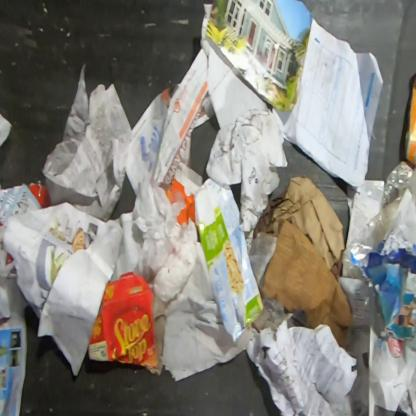cardboard: (262, 218, 354, 348), (350, 239, 415, 381), (87, 271, 158, 368), (403, 73, 415, 172), (27, 178, 48, 209)
rigid_plastic: (341, 161, 416, 281)
